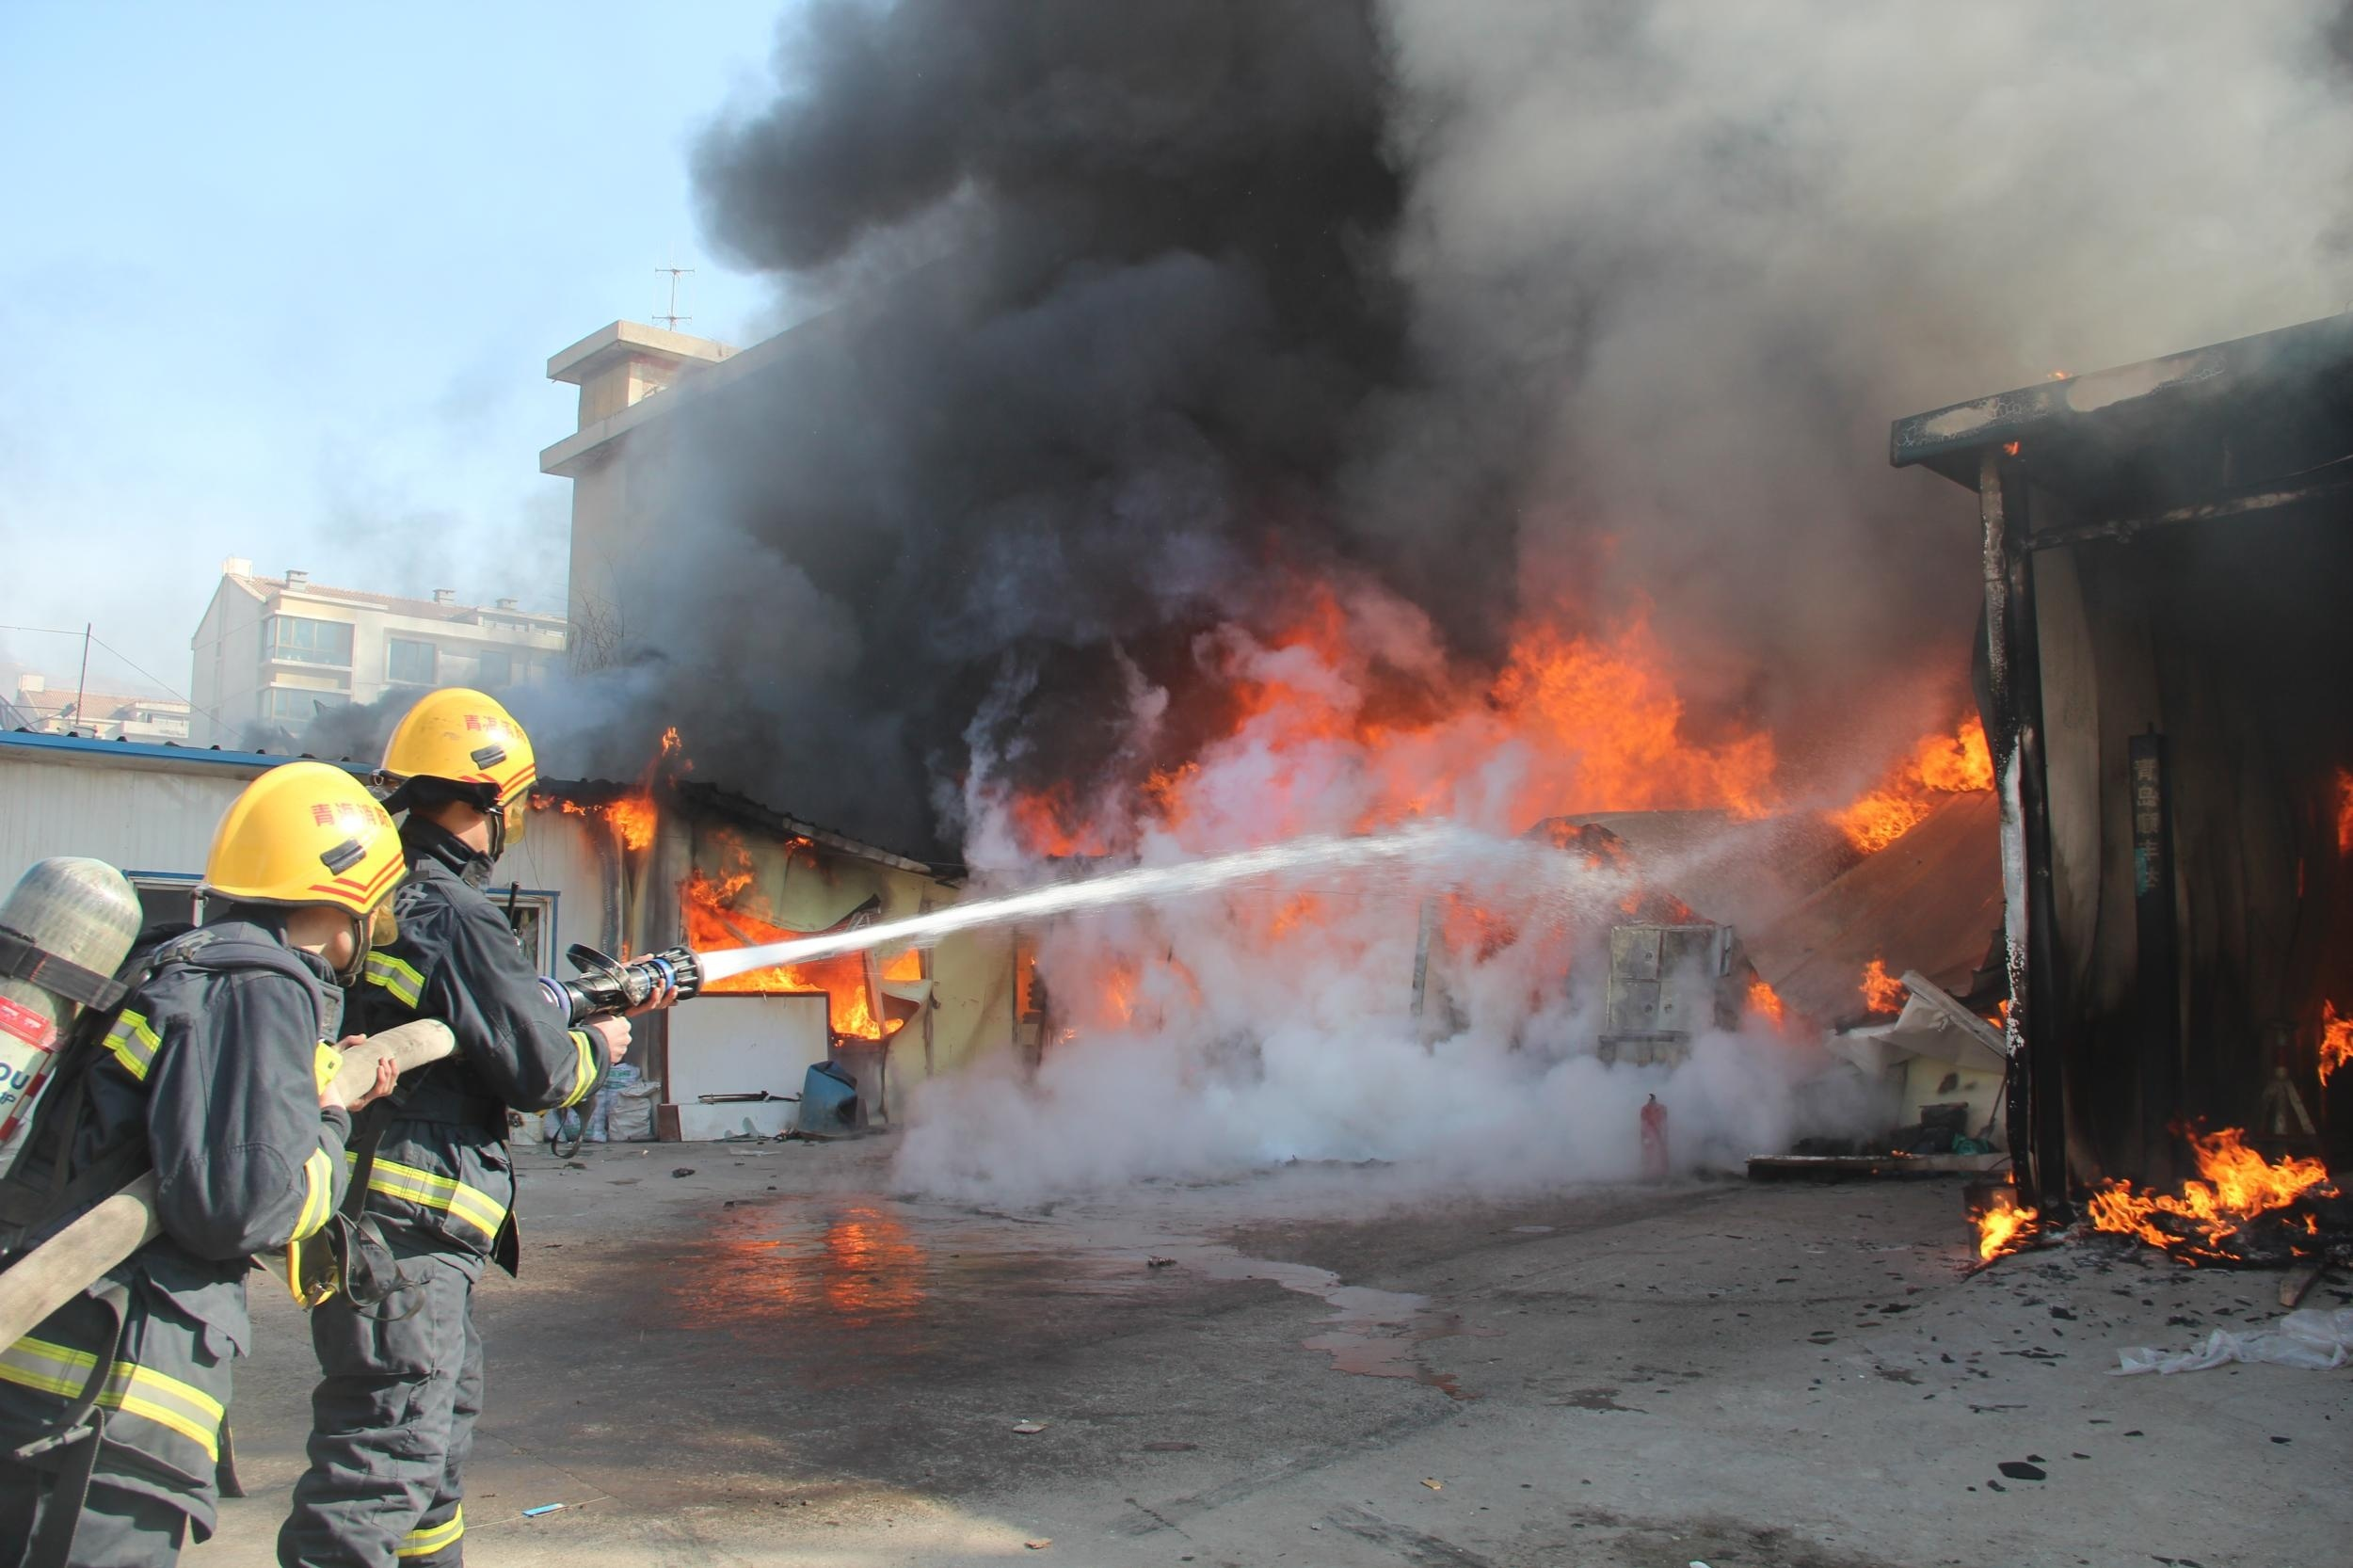fire: (1001, 588, 1994, 912), (688, 882, 901, 1036), (586, 735, 679, 852)
